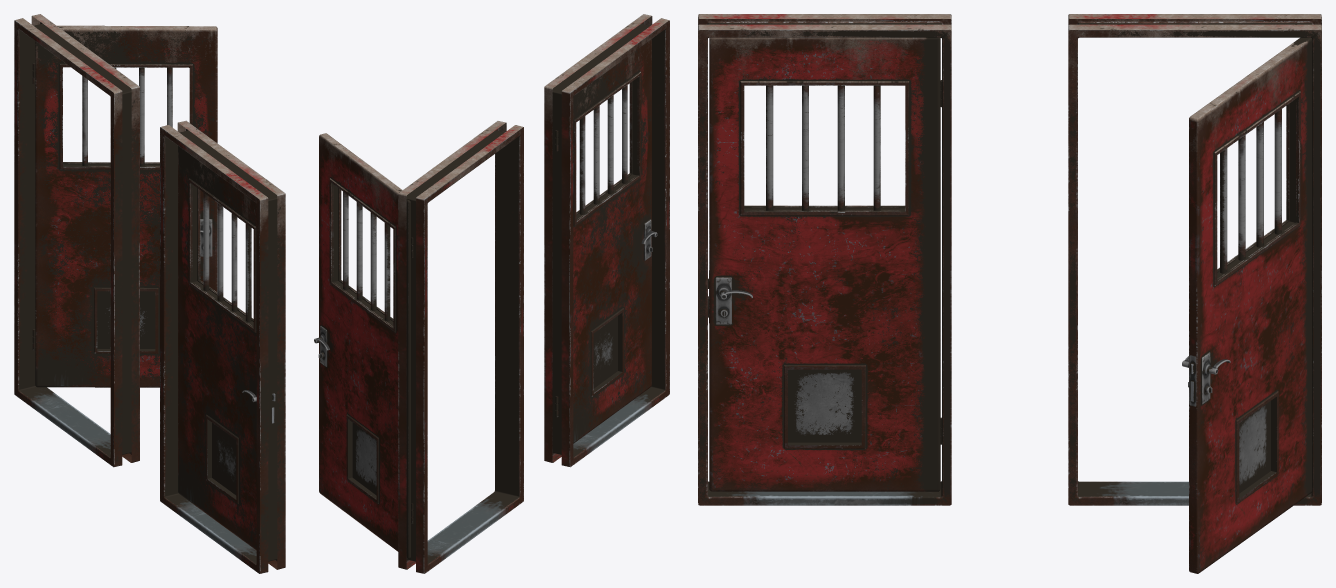
The picture shows the model from 3 angles, left to right: view 1: azimuth 30°, elevation 25°; view 2: azimuth 150°, elevation 25°; view 3: azimuth 270°, elevation 25°; orthographic projection. The views are drawn at different scales.
Visible parts, largest first — view 1: prison_door, prison_door_2_3, prison_door_2, prison_door_2_2; view 2: prison_door, prison_door_2, prison_door_2_3, prison_door_2_2; view 3: prison_door_2_3, prison_door, prison_door_2_2, prison_door_2.
Part boxes in pixels (x1=…): prison_door: x1=32, y1=25, x2=217, y2=387; prison_door_2_3: x1=178, y1=146, x2=275, y2=550; prison_door_2: x1=14, y1=14, x2=139, y2=467; prison_door_2_2: x1=160, y1=120, x2=285, y2=573; prison_door: x1=314, y1=133, x2=413, y2=558; prison_door_2: x1=398, y1=121, x2=523, y2=573; prison_door_2_3: x1=555, y1=39, x2=657, y2=443; prison_door_2_2: x1=544, y1=14, x2=669, y2=467; prison_door_2_3: x1=708, y1=37, x2=941, y2=491; prison_door: x1=1182, y1=37, x2=1311, y2=573; prison_door_2_2: x1=698, y1=14, x2=951, y2=505; prison_door_2: x1=1068, y1=14, x2=1321, y2=505.
Size of the model in its own units: 1.21 by 2.78 by 3.31.
Materials: 1 (1 with a texture image).
